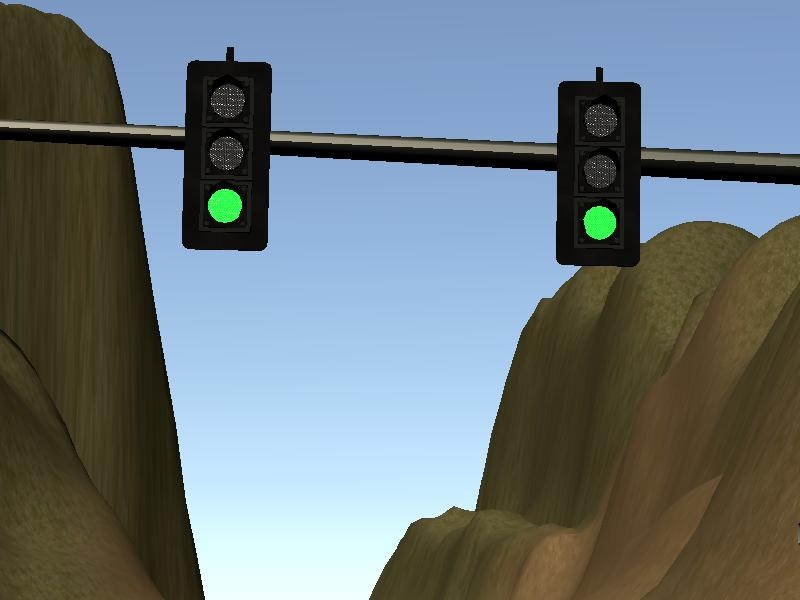green: (171, 46, 281, 255), (548, 65, 649, 273)
